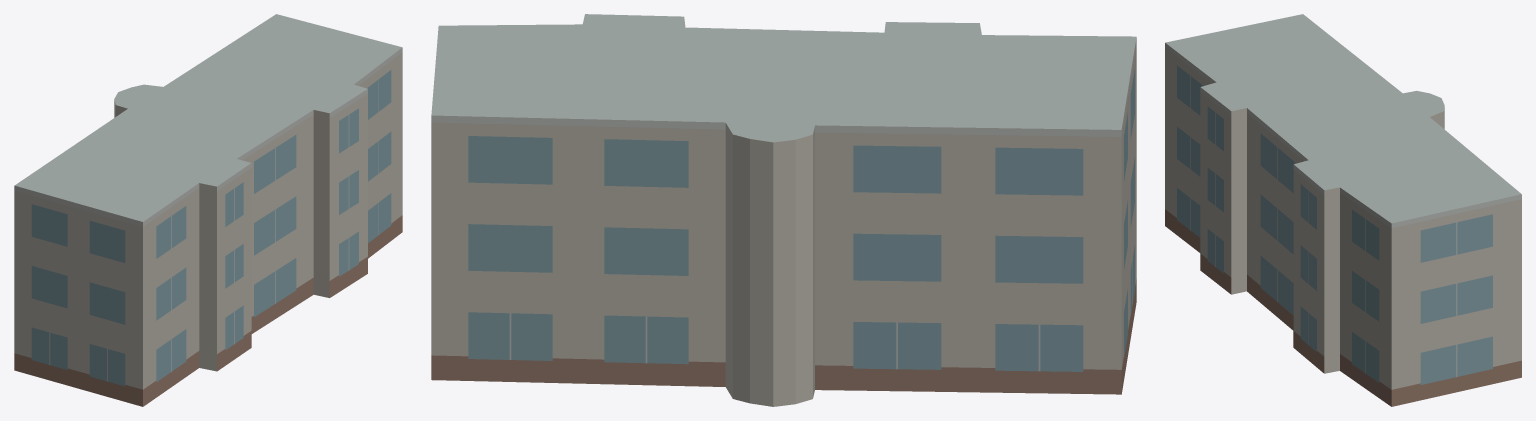
The model's file is survey-upis-32963419.glb.
The picture shows the model from 3 angles, left to right: view 1: azimuth 30°, elevation 25°; view 2: azimuth 150°, elevation 25°; view 3: azimuth 270°, elevation 25°; orthographic projection. The views are drawn at different scales.
Visible parts, largest first — view 1: survey-upis-32963419.tmp; view 2: survey-upis-32963419.tmp; view 3: survey-upis-32963419.tmp.
Part boxes in pixels (x1,y1,x2,y2): survey-upis-32963419.tmp: [14, 14, 402, 406]; survey-upis-32963419.tmp: [431, 14, 1136, 406]; survey-upis-32963419.tmp: [1165, 14, 1521, 406].
Size of the model in its own units: 22.42 by 9.15 by 16.14.
